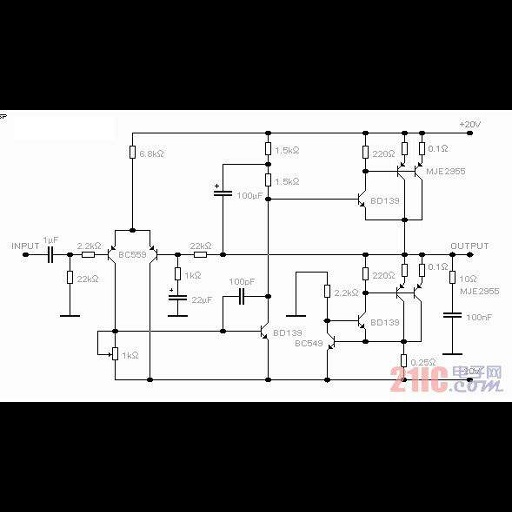capacitor: (44, 245, 59, 266), (440, 309, 464, 322), (237, 285, 247, 308)
firstpolarcapacitor: (162, 287, 189, 306), (207, 180, 234, 199)
firstresistance: (320, 282, 332, 303), (359, 141, 370, 162), (125, 142, 137, 161), (398, 262, 411, 279), (63, 268, 74, 288), (262, 170, 273, 190), (170, 264, 182, 282), (416, 261, 428, 279), (397, 351, 408, 370), (446, 268, 457, 287), (78, 249, 98, 259), (397, 141, 410, 156), (262, 140, 273, 157), (361, 264, 370, 284), (190, 250, 209, 259), (417, 140, 427, 157)
npn: (324, 330, 342, 356), (354, 309, 368, 332), (353, 188, 368, 209)
pnp: (409, 160, 425, 182), (392, 160, 407, 182), (392, 282, 407, 303), (412, 282, 425, 303)
